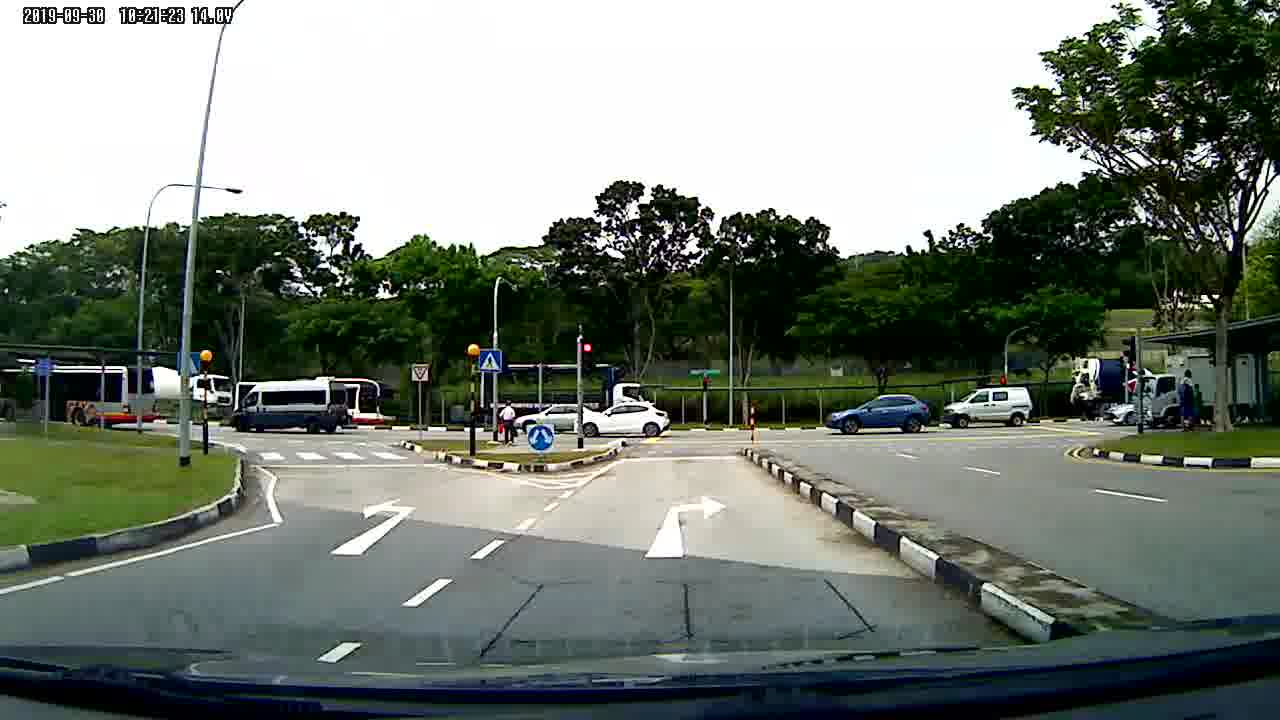bus: (1, 357, 161, 433), (239, 378, 392, 427)
car: (825, 394, 934, 435), (579, 404, 672, 444), (512, 409, 598, 434)
